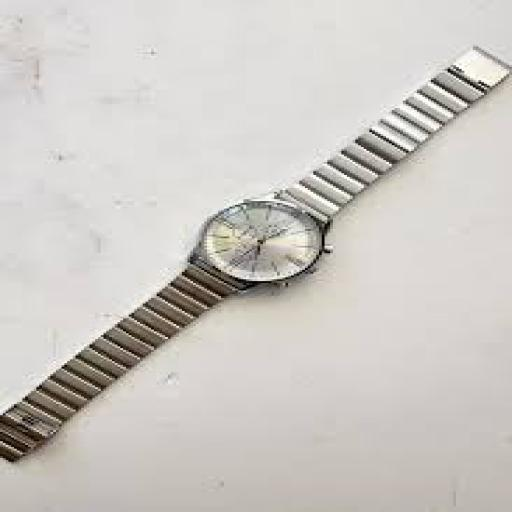KolSaati: (0, 57, 509, 463)
